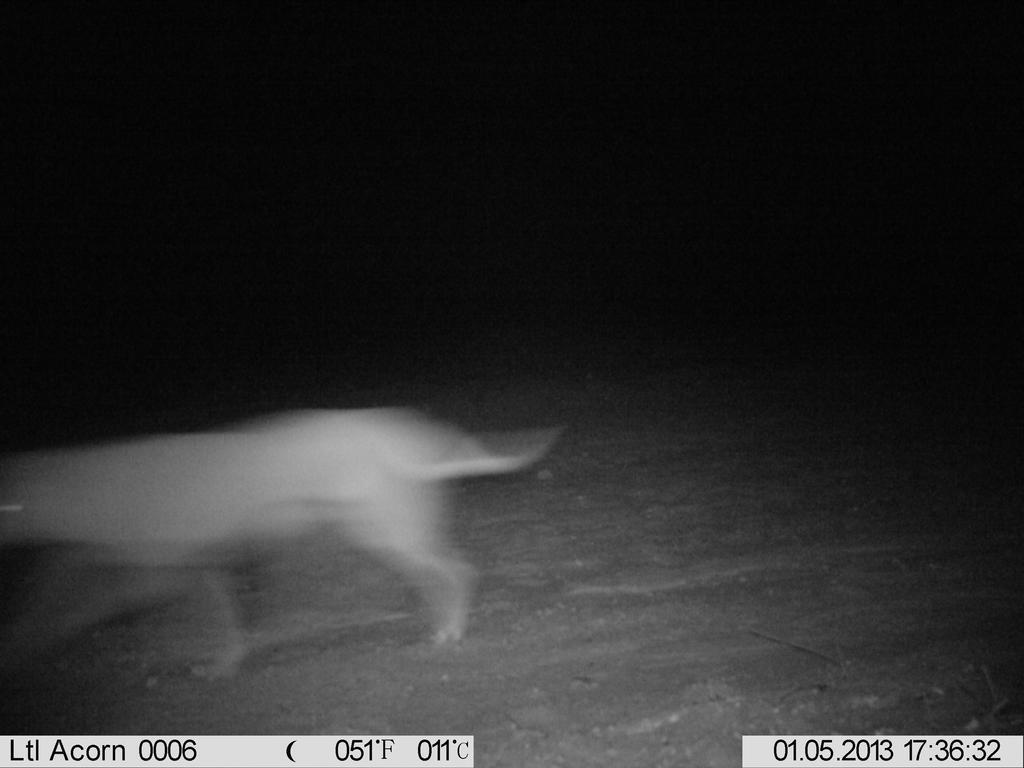dog: (7, 392, 566, 688)
